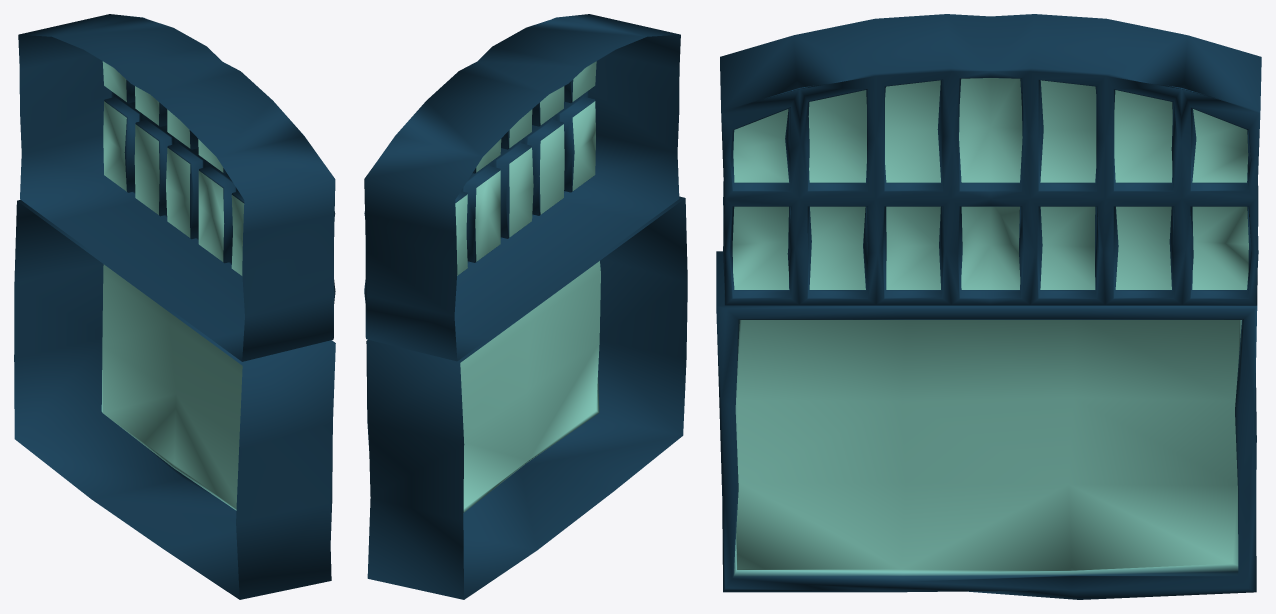
Rendered from Window_StoreFront_Lg.fbx.
3 views of the same model, side by side, from view 1: azimuth 30°, elevation 25°; view 2: azimuth 150°, elevation 25°; view 3: azimuth 270°, elevation 25° (orthographic). The views are drawn at different scales.
Visible parts, largest first — view 1: LargeWindow.001, LargeWindow.003; view 2: LargeWindow.001, LargeWindow.003; view 3: LargeWindow.001, LargeWindow.003.
Boxes of the visible parts, left/top/right/bottom form: LargeWindow.001: left=14, top=200, right=335, bottom=599; LargeWindow.003: left=18, top=14, right=335, bottom=361; LargeWindow.001: left=366, top=196, right=687, bottom=599; LargeWindow.003: left=364, top=14, right=680, bottom=361; LargeWindow.001: left=716, top=251, right=1257, bottom=599; LargeWindow.003: left=720, top=14, right=1261, bottom=305.
Bounding box in the file's own units: 0.573 × 2.21 × 2.39.
